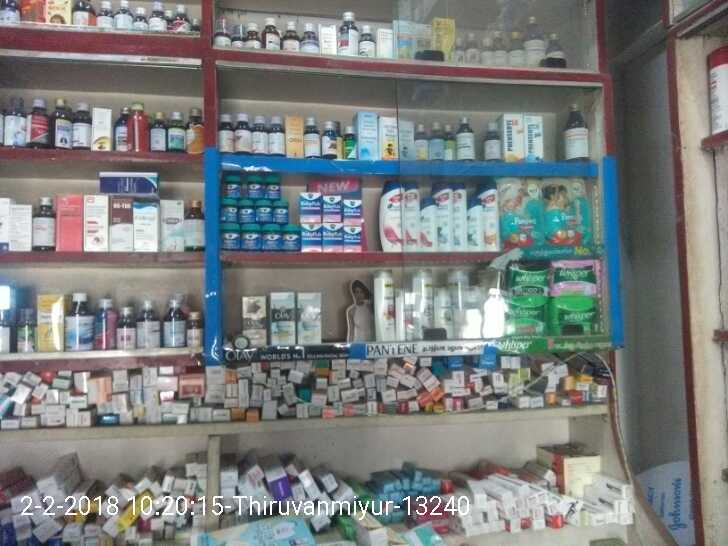vicks: (219, 172, 303, 249), (300, 187, 360, 253)
